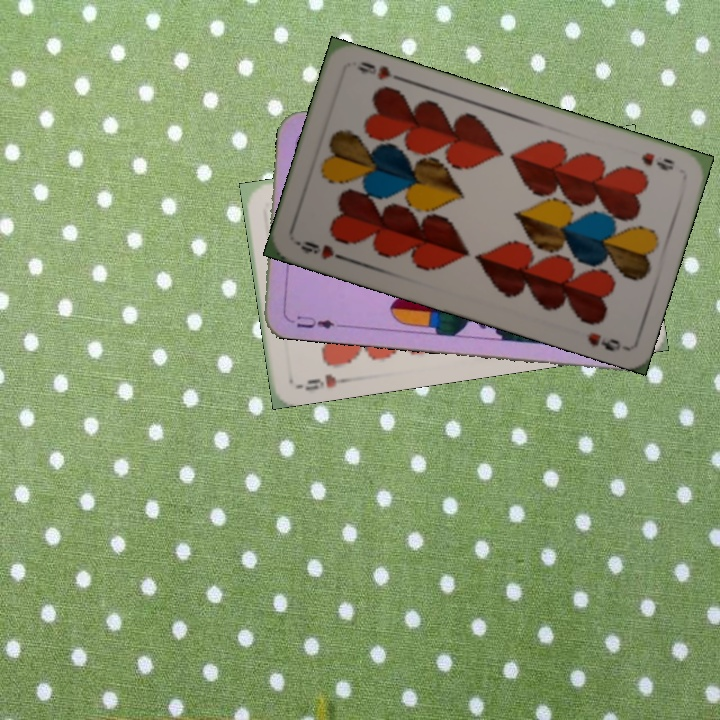EU: (283, 311, 342, 331)
H9: (292, 237, 351, 264), (294, 370, 353, 394), (637, 148, 678, 174)
